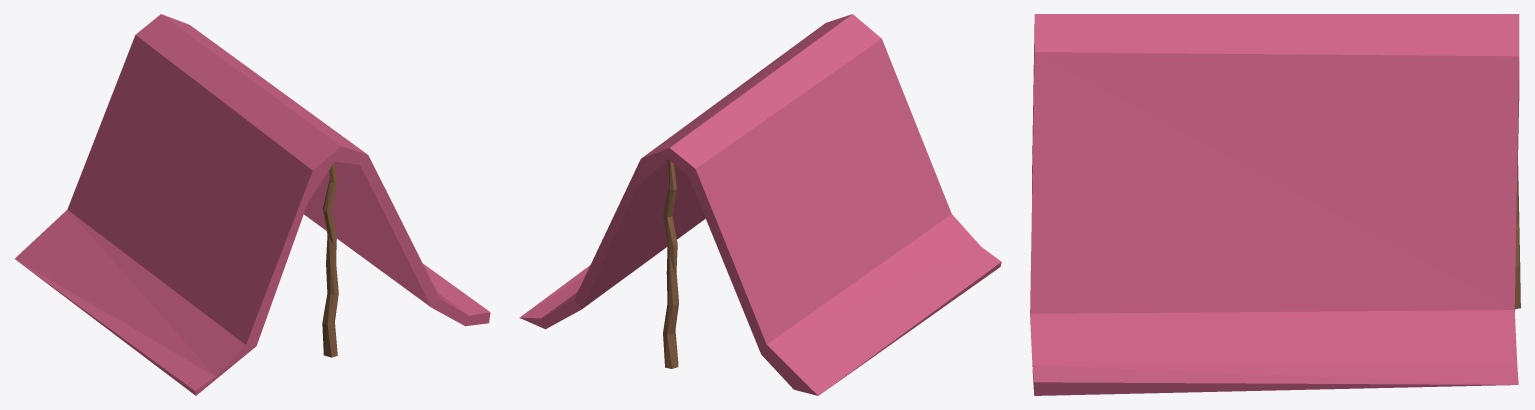
The model's file is tent_pink.fbx.
3 views of the same model, side by side, from view 1: azimuth 30°, elevation 25°; view 2: azimuth 150°, elevation 25°; view 3: azimuth 270°, elevation 25° (orthographic). The views are drawn at different scales.
Parts seen in each view (by area): view 1: tent_pink.001; view 2: tent_pink.001; view 3: tent_pink.001.
Part boxes in pixels (box(x1,y1,x2,y2)): tent_pink.001: box(15, 14, 490, 395); tent_pink.001: box(519, 14, 1001, 395); tent_pink.001: box(1030, 14, 1520, 395).
Bounding box in the file's own units: 278 × 196 × 299.
